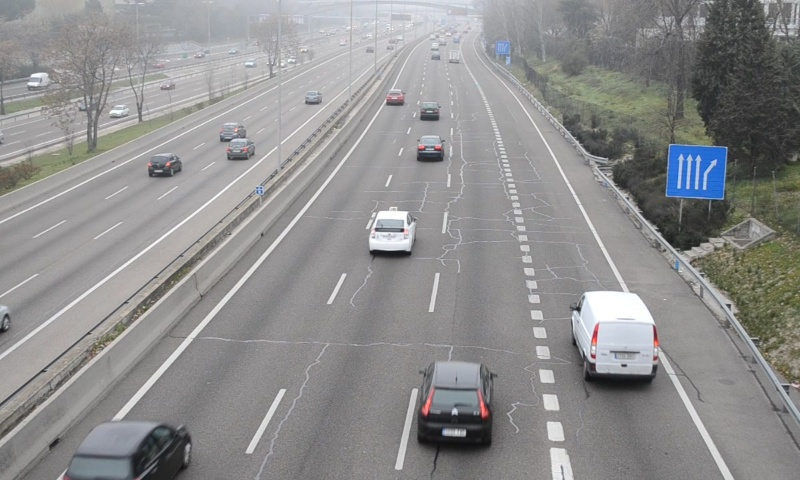car: (64, 420, 188, 480), (416, 360, 495, 446), (368, 210, 413, 253), (417, 134, 444, 160), (419, 100, 439, 119), (387, 88, 405, 106)
van: (572, 290, 659, 384)
